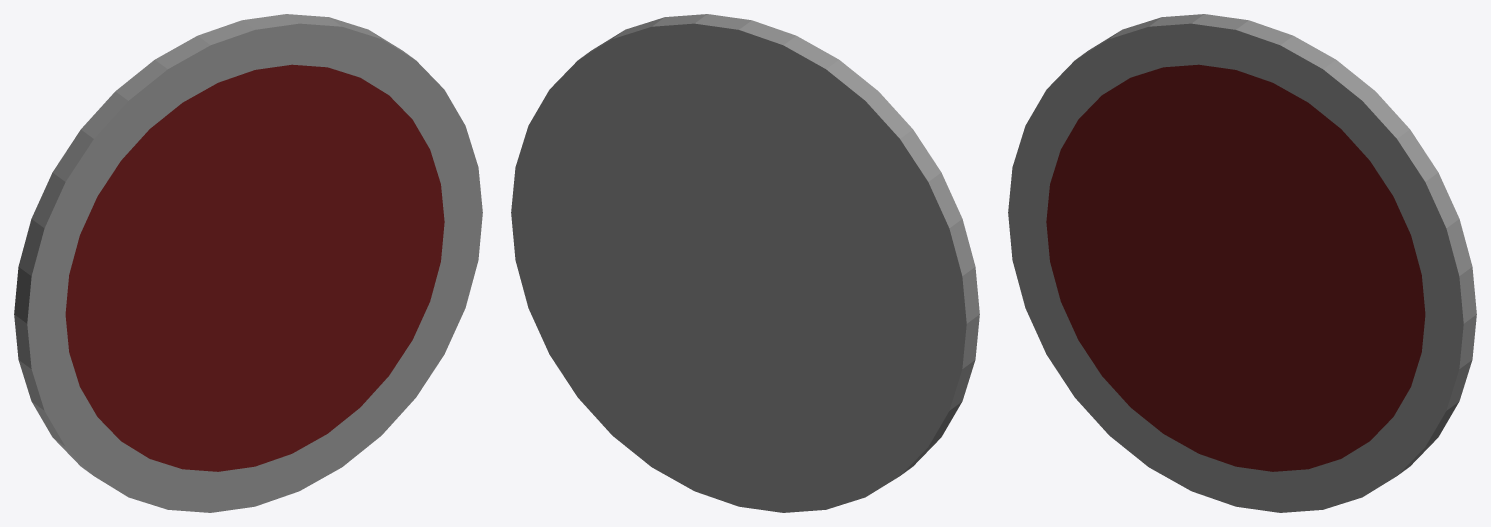
The model's file is NoEntrySign.fbx.
3 views of the same model, side by side, from view 1: azimuth 30°, elevation 25°; view 2: azimuth 150°, elevation 25°; view 3: azimuth 330°, elevation 25° (orthographic).
Parts seen in each view (by area): view 1: Circle.001; view 2: Circle.001; view 3: Circle.001.
Part boxes in pixels (left/top/right/bottom): Circle.001: left=14, top=14, right=482, bottom=512; Circle.001: left=511, top=14, right=979, bottom=512; Circle.001: left=1008, top=14, right=1476, bottom=512.
Size of the model in its own units: 200 by 200 by 10.
